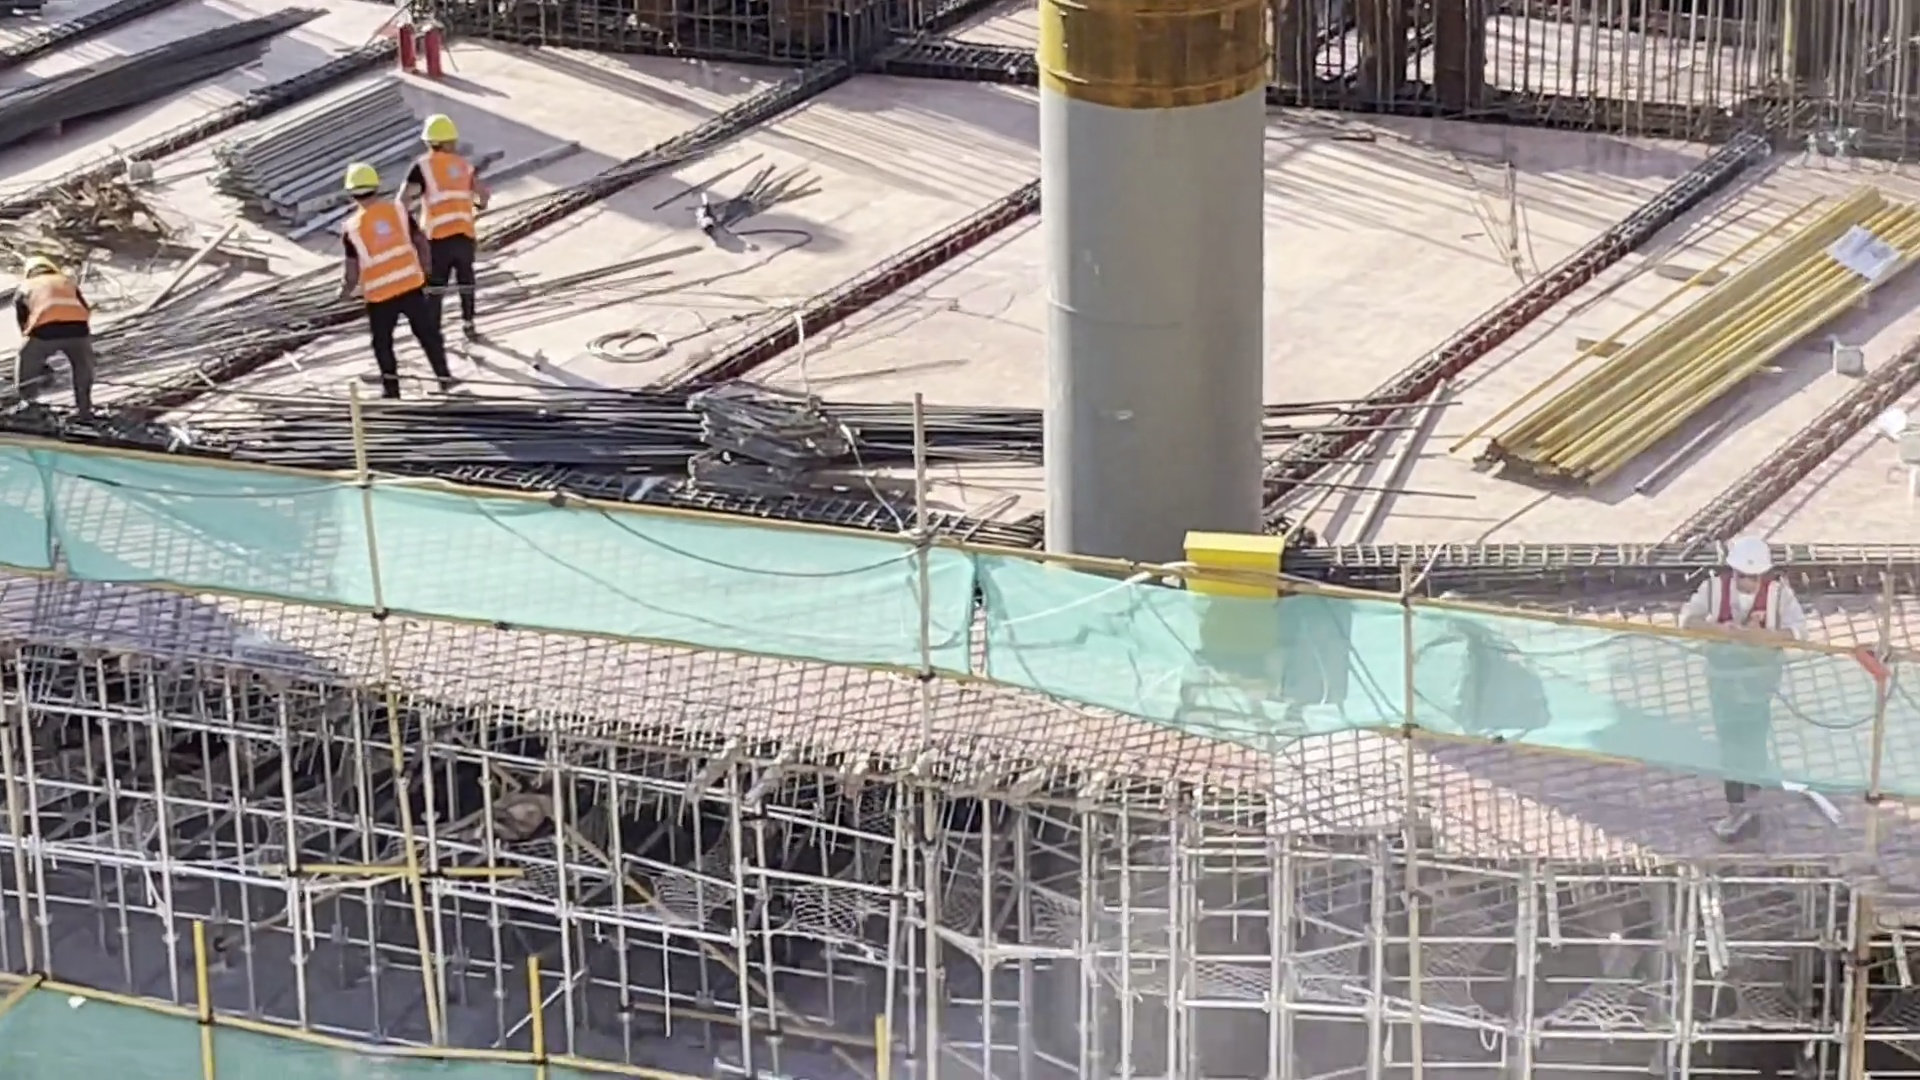helmet: (1718, 535, 1782, 578), (333, 159, 385, 189), (416, 113, 456, 144)
person: (1670, 522, 1815, 834), (326, 148, 437, 382), (7, 249, 121, 409), (411, 104, 486, 339)
vest: (338, 192, 423, 302), (1707, 585, 1777, 705), (412, 160, 486, 244), (16, 274, 93, 334)
